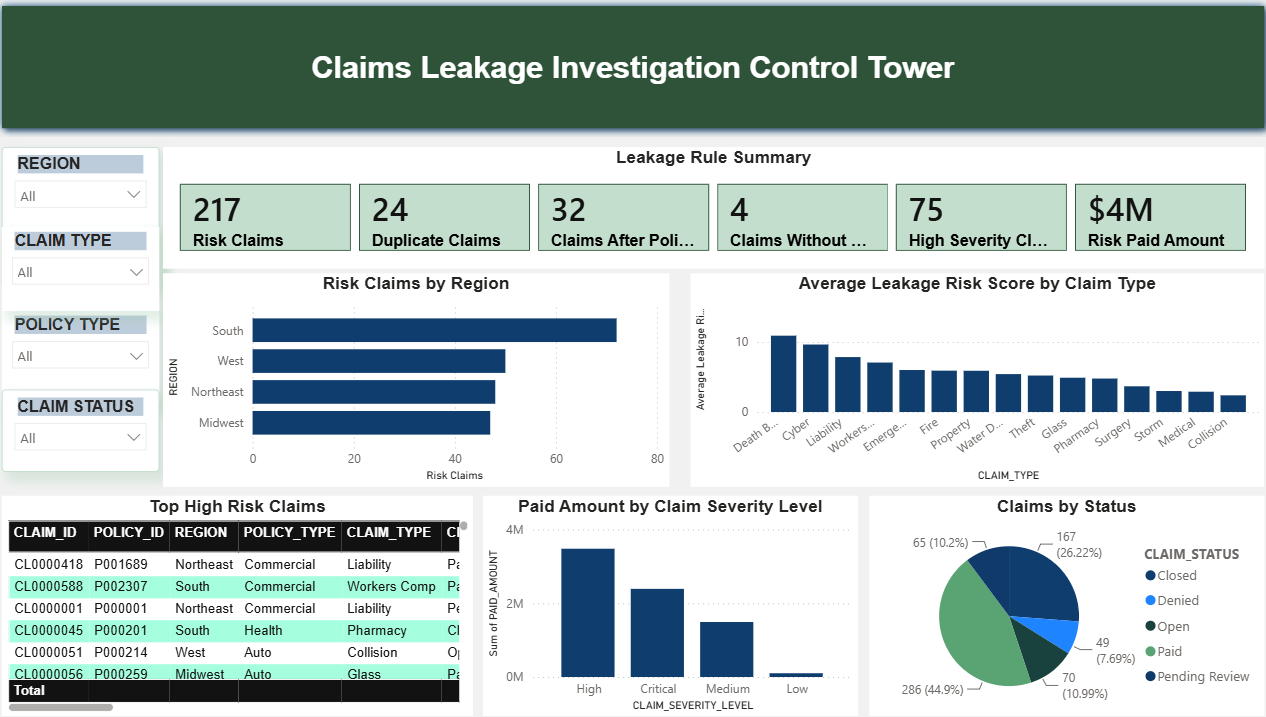

The dashboard page shown, as its layout file describes it:
{"tool":"powerbi","page":{"name":"Claims Leakage Control Tower","canvas":[1280,720],"ordinal":1},"visuals":[{"type":"slicer","fields":{"Values":["MART_CLAIMS_LEAKAGE.REGION"]},"box":[8.8,150,157.5,140],"z":0},{"type":"slicer","fields":{"Values":["MART_CLAIMS_LEAKAGE.POLICY_TYPE"]},"box":[8.8,313.8,157.5,93.8],"z":1000},{"type":"slicer","fields":{"Values":["MART_CLAIMS_LEAKAGE.CLAIM_TYPE"]},"box":[8.8,230,157.5,83.8],"z":2000},{"type":"slicer","fields":{"Values":["MART_CLAIMS_LEAKAGE.CLAIM_STATUS"]},"box":[8.8,392.5,157.5,82.5],"z":3000},{"type":"clusteredBarChart","title":"Risk Claims by Region","fields":{"Category":["MART_CLAIMS_LEAKAGE.REGION"],"Y":["MART_CLAIMS_LEAKAGE.Risk Claims"]},"box":[170,276.2,506.2,213.8],"z":4000},{"type":"cardVisual","title":"Leakage Rule Summary","fields":{"Data":["MART_CLAIMS_LEAKAGE.Risk Claims","MART_CLAIMS_LEAKAGE.Duplicate Claims","MART_CLAIMS_LEAKAGE.Claims After Policy End","MART_CLAIMS_LEAKAGE.Claims Without Premium","MART_CLAIMS_LEAKAGE.High Severity Claims","MART_CLAIMS_LEAKAGE.Risk Paid Amount"]},"box":[170.1,149.6,1101.5,121.9],"z":5000},{"type":"clusteredColumnChart","title":"Average Leakage Risk Score by Claim Type","fields":{"Category":["MART_CLAIMS_LEAKAGE.CLAIM_TYPE"],"Y":["MART_CLAIMS_LEAKAGE.Average Leakage Risk Score"]},"box":[697.5,276.2,573.8,213.8],"z":6000},{"type":"clusteredColumnChart","title":"Paid Amount by Claim Severity Level","fields":{"Category":["MART_CLAIMS_LEAKAGE.CLAIM_SEVERITY_LEVEL"],"Y":["Sum(MART_CLAIMS_LEAKAGE.PAID_AMOUNT)"]},"box":[490,498.8,375,221.2],"z":7000},{"type":"pieChart","title":"Claims by Status","fields":{"Y":["CountNonNull(MART_CLAIMS_LEAKAGE.CLAIM_ID)"],"Series":["MART_CLAIMS_LEAKAGE.CLAIM_STATUS"]},"box":[876.2,498.8,395,221.2],"z":8000},{"type":"tableEx","title":"Top High Risk Claims","fields":{"Values":["MART_CLAIMS_LEAKAGE.CLAIM_ID","MART_CLAIMS_LEAKAGE.POLICY_ID","MART_CLAIMS_LEAKAGE.REGION","MART_CLAIMS_LEAKAGE.POLICY_TYPE","MART_CLAIMS_LEAKAGE.CLAIM_TYPE","MART_CLAIMS_LEAKAGE.CLAIM_STATUS","MART_CLAIMS_LEAKAGE.CLAIM_SEVERITY_LEVEL","Sum(MART_CLAIMS_LEAKAGE.PAID_AMOUNT)","Sum(MART_CLAIMS_LEAKAGE.LEAKAGE_RISK_SCORE)","Sum(MART_CLAIMS_LEAKAGE.DUPLICATE_CLAIM_FLAG)","MART_CLAIMS_LEAKAGE.Claims After Policy End","MART_CLAIMS_LEAKAGE.Claims Without Premium"]},"box":[8.8,498.8,471.2,221.2],"z":9000},{"type":"shape","box":[0,0,1280.2,140.2],"z":10000}]}

Visuals, with their boxes in screenshot pixels (x1, y1, x2, y2), scaled from the page's 1280x720 canvas onto the 1266x717 screenshot:
slicer - MART_CLAIMS_LEAKAGE.REGION: BBox(9, 149, 164, 289)
slicer - MART_CLAIMS_LEAKAGE.POLICY_TYPE: BBox(9, 312, 164, 406)
slicer - MART_CLAIMS_LEAKAGE.CLAIM_TYPE: BBox(9, 229, 164, 312)
slicer - MART_CLAIMS_LEAKAGE.CLAIM_STATUS: BBox(9, 391, 164, 473)
"Risk Claims by Region" clusteredBarChart: BBox(168, 275, 669, 488)
"Leakage Rule Summary" cardVisual: BBox(168, 149, 1258, 270)
"Average Leakage Risk Score by Claim Type" clusteredColumnChart: BBox(690, 275, 1257, 488)
"Paid Amount by Claim Severity Level" clusteredColumnChart: BBox(485, 497, 856, 716)
"Claims by Status" pieChart: BBox(867, 497, 1257, 716)
"Top High Risk Claims" tableEx: BBox(9, 497, 475, 716)
shape: BBox(0, 0, 1265, 140)
